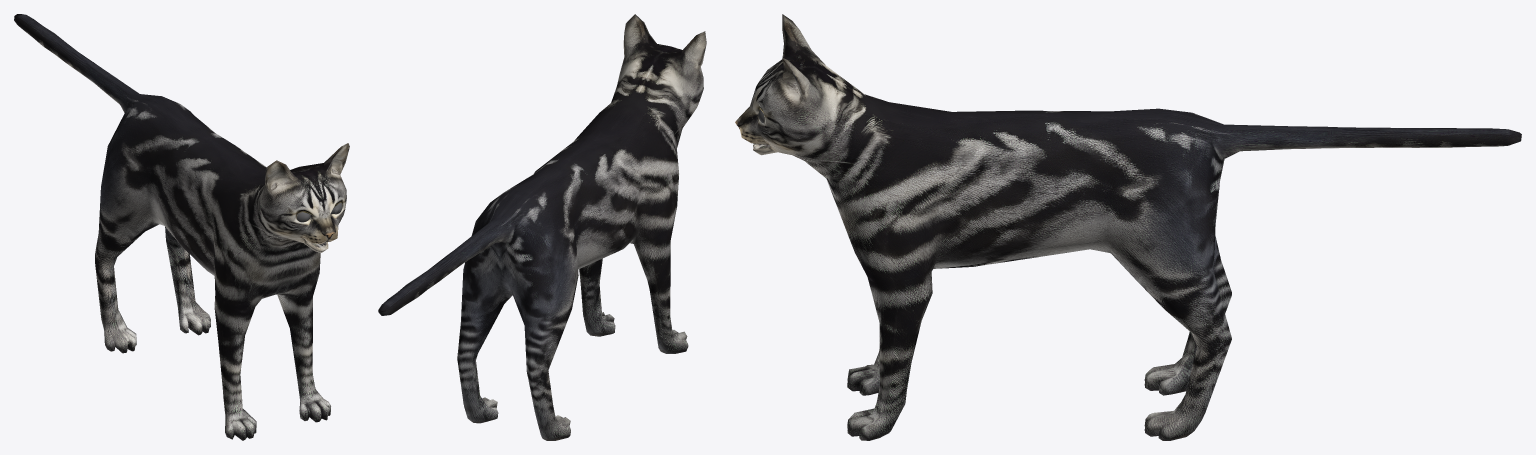
3 renders of one model, left to right at view 1: azimuth 30°, elevation 25°; view 2: azimuth 150°, elevation 25°; view 3: azimuth 270°, elevation 25°, orthographic. The views are drawn at different scales.
Visible parts, largest first — view 1: Mesh_0; view 2: Mesh_0; view 3: Mesh_0.
Part boxes in pixels (box(x1,y1,x2,y2)): Mesh_0: box(14, 14, 349, 440); Mesh_0: box(378, 14, 706, 440); Mesh_0: box(735, 14, 1521, 440).
Size of the model in its own units: 39.05 by 105 by 200.
1 material, 1 textured.
